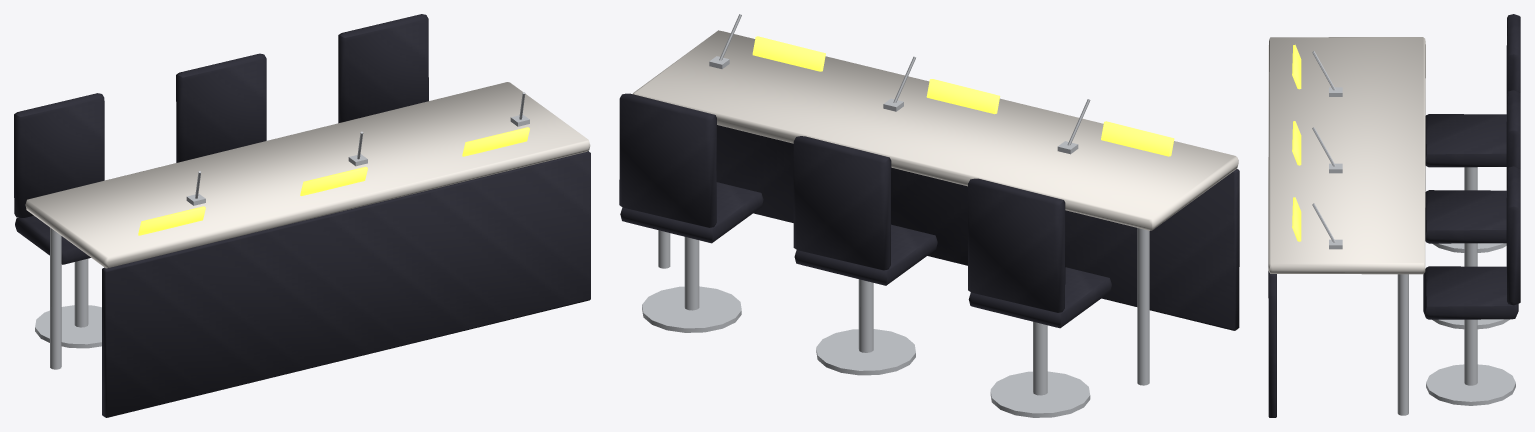
Rendered from mesa-dos-jurados-leve.glb.
The picture shows the model from 3 angles, left to right: view 1: azimuth 30°, elevation 25°; view 2: azimuth 150°, elevation 25°; view 3: azimuth 270°, elevation 25°; orthographic projection. The views are drawn at different scales.
Visible parts, largest first — view 1: saia, tampo, encosto, encosto.001, encosto.002, pe, perna, assento, coluna, placa.002, placa, placa.001; view 2: tampo, saia, encosto.001, encosto.002, encosto, pe, pe.002, pe.001, assento.002, assento, assento.001, perna (+6 smaller); view 3: tampo, assento.002, assento.001, assento, pe.002, encosto.002, perna.001, saia, encosto, encosto.001, coluna.002, pe.001 (+6 smaller).
Boxes of the visible parts, bbox=[...] form: saia: bbox=[102, 151, 590, 417]; tampo: bbox=[25, 82, 590, 268]; encosto: bbox=[14, 93, 104, 217]; encosto.001: bbox=[176, 53, 266, 162]; encosto.002: bbox=[338, 14, 428, 123]; pe: bbox=[35, 305, 101, 348]; perna: bbox=[50, 227, 61, 369]; assento: bbox=[15, 215, 90, 264]; coluna: bbox=[74, 258, 88, 327]; placa.002: bbox=[462, 127, 529, 156]; placa: bbox=[138, 206, 205, 235]; placa.001: bbox=[300, 166, 367, 195]; tampo: bbox=[633, 30, 1238, 230]; saia: bbox=[716, 125, 1239, 330]; encosto.001: bbox=[793, 136, 891, 270]; encosto.002: bbox=[619, 93, 716, 227]; encosto: bbox=[968, 178, 1065, 312]; pe: bbox=[990, 371, 1090, 417]; pe.002: bbox=[642, 286, 741, 332]; pe.001: bbox=[816, 329, 915, 375]; assento.002: bbox=[620, 182, 763, 243]; assento: bbox=[968, 267, 1111, 328]; assento.001: bbox=[794, 224, 937, 285]; perna: bbox=[1137, 228, 1149, 385]; tampo: bbox=[1268, 37, 1425, 274]; assento.002: bbox=[1423, 266, 1518, 319]; assento.001: bbox=[1425, 190, 1506, 243]; assento: bbox=[1425, 114, 1506, 167]; pe.002: bbox=[1426, 364, 1515, 405]; encosto.002: bbox=[1506, 166, 1520, 305]; perna.001: bbox=[1397, 274, 1408, 415]; saia: bbox=[1268, 271, 1276, 417]; encosto: bbox=[1506, 14, 1520, 121]; encosto.001: bbox=[1506, 90, 1520, 197]; coluna.002: bbox=[1464, 319, 1477, 385]; pe.001: bbox=[1432, 319, 1509, 329].
Bounding box in the file's own units: 2.4 × 0.991 × 1.12.
4 materials, 1 textured.
